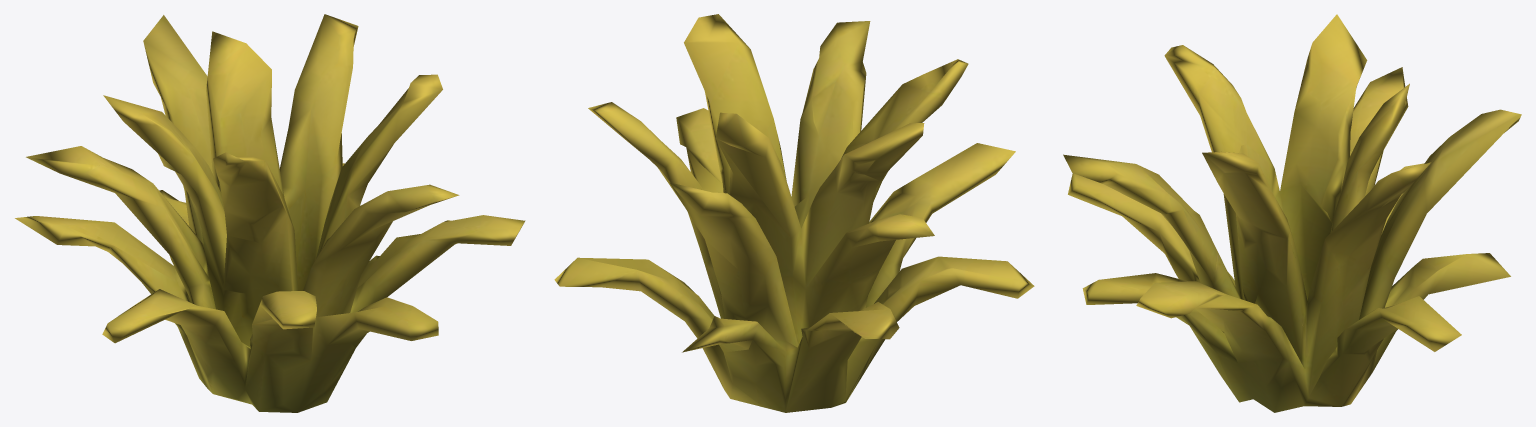
File: pro_grass-Cxcq6e7c.glb
3 renders of one model, left to right at view 1: azimuth 30°, elevation 25°; view 2: azimuth 150°, elevation 25°; view 3: azimuth 270°, elevation 25°, orthographic. The views are drawn at different scales.
Visible parts, largest first — view 1: tripo_node_e4397b55-9a0f-4ae7-aec3-d0905821ae00; view 2: tripo_node_e4397b55-9a0f-4ae7-aec3-d0905821ae00; view 3: tripo_node_e4397b55-9a0f-4ae7-aec3-d0905821ae00.
Boxes of the visible parts, x1,y1,x2,y2 form: tripo_node_e4397b55-9a0f-4ae7-aec3-d0905821ae00: [15, 14, 525, 412]; tripo_node_e4397b55-9a0f-4ae7-aec3-d0905821ae00: [554, 14, 1034, 412]; tripo_node_e4397b55-9a0f-4ae7-aec3-d0905821ae00: [1063, 14, 1521, 412].
Bounding box in the file's own units: 0.9359 × 0.7404 × 1.
1 material, 1 textured.
